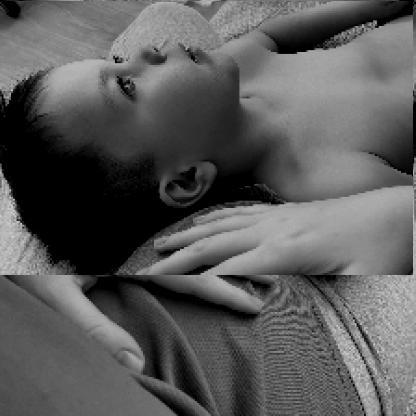child: (1, 2, 415, 277)
